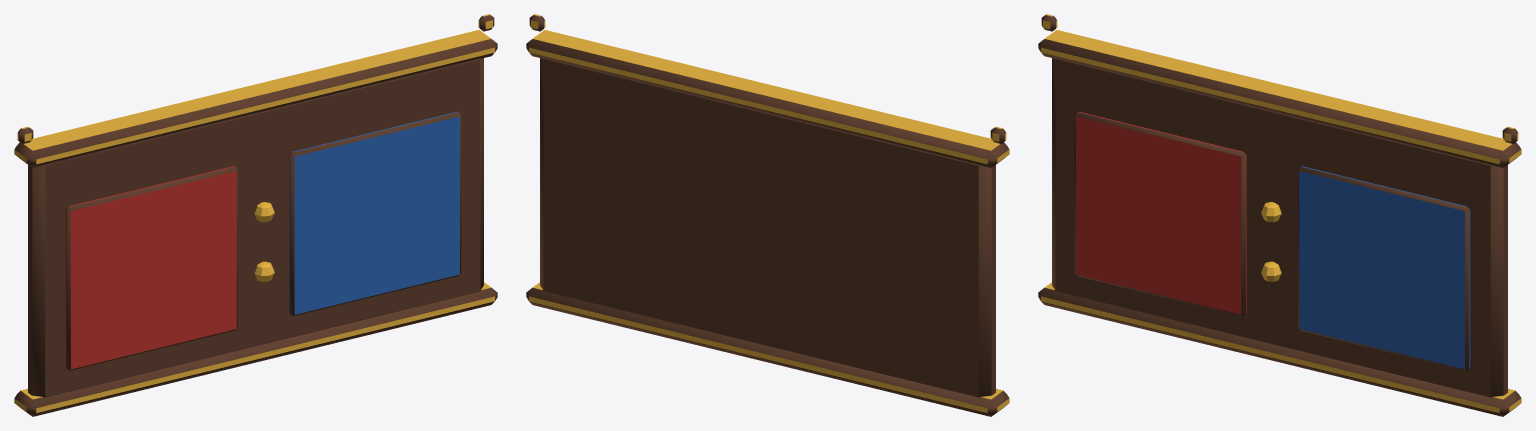
Rendered from toy_scoreboard.glb.
3 views of the same model, side by side, from view 1: azimuth 30°, elevation 25°; view 2: azimuth 150°, elevation 25°; view 3: azimuth 330°, elevation 25° (orthographic).
Parts seen in each view (by area): view 1: Board; view 2: Board; view 3: Board.
Boxes of the visible parts, x1,y1,x2,y2 form: Board: [14, 14, 497, 416]; Board: [526, 14, 1009, 416]; Board: [1038, 14, 1521, 416].
Size of the model in its own units: 2 by 1.15 by 0.17.
